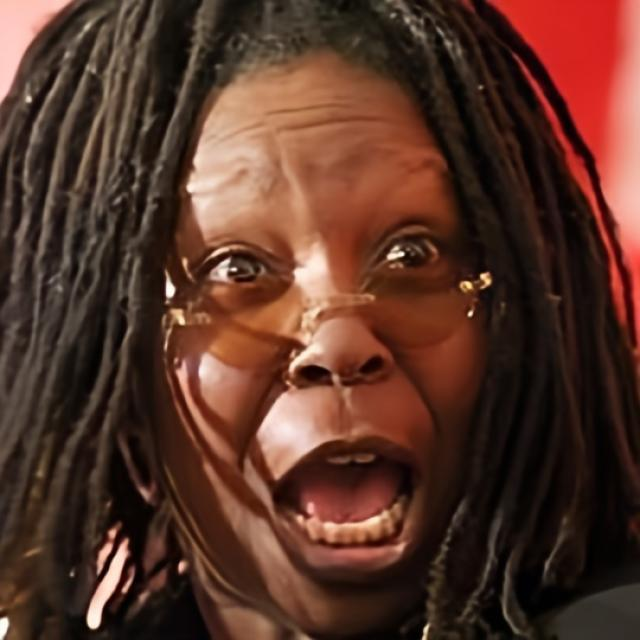Fear: (158, 43, 484, 639)
